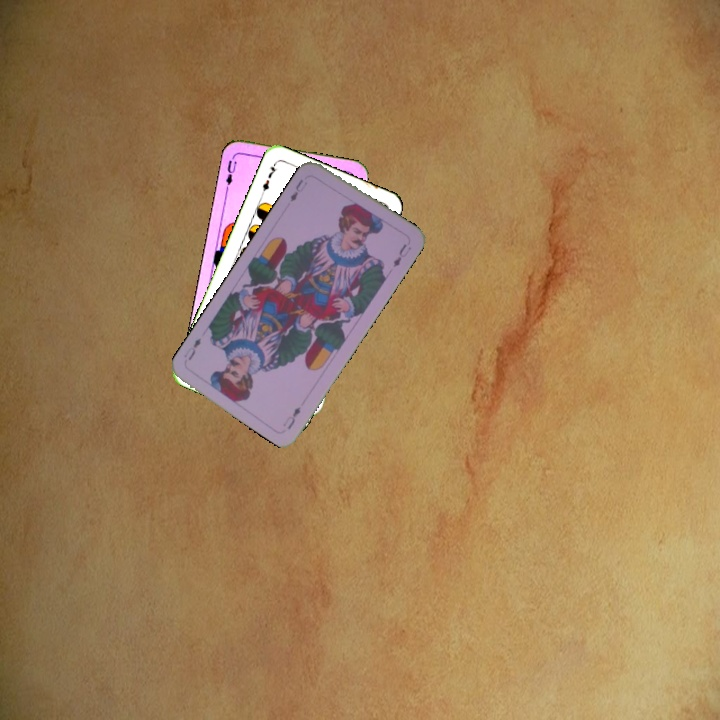E7: (257, 159, 280, 198)
EU: (279, 402, 304, 432), (286, 175, 310, 204), (222, 156, 239, 192)
